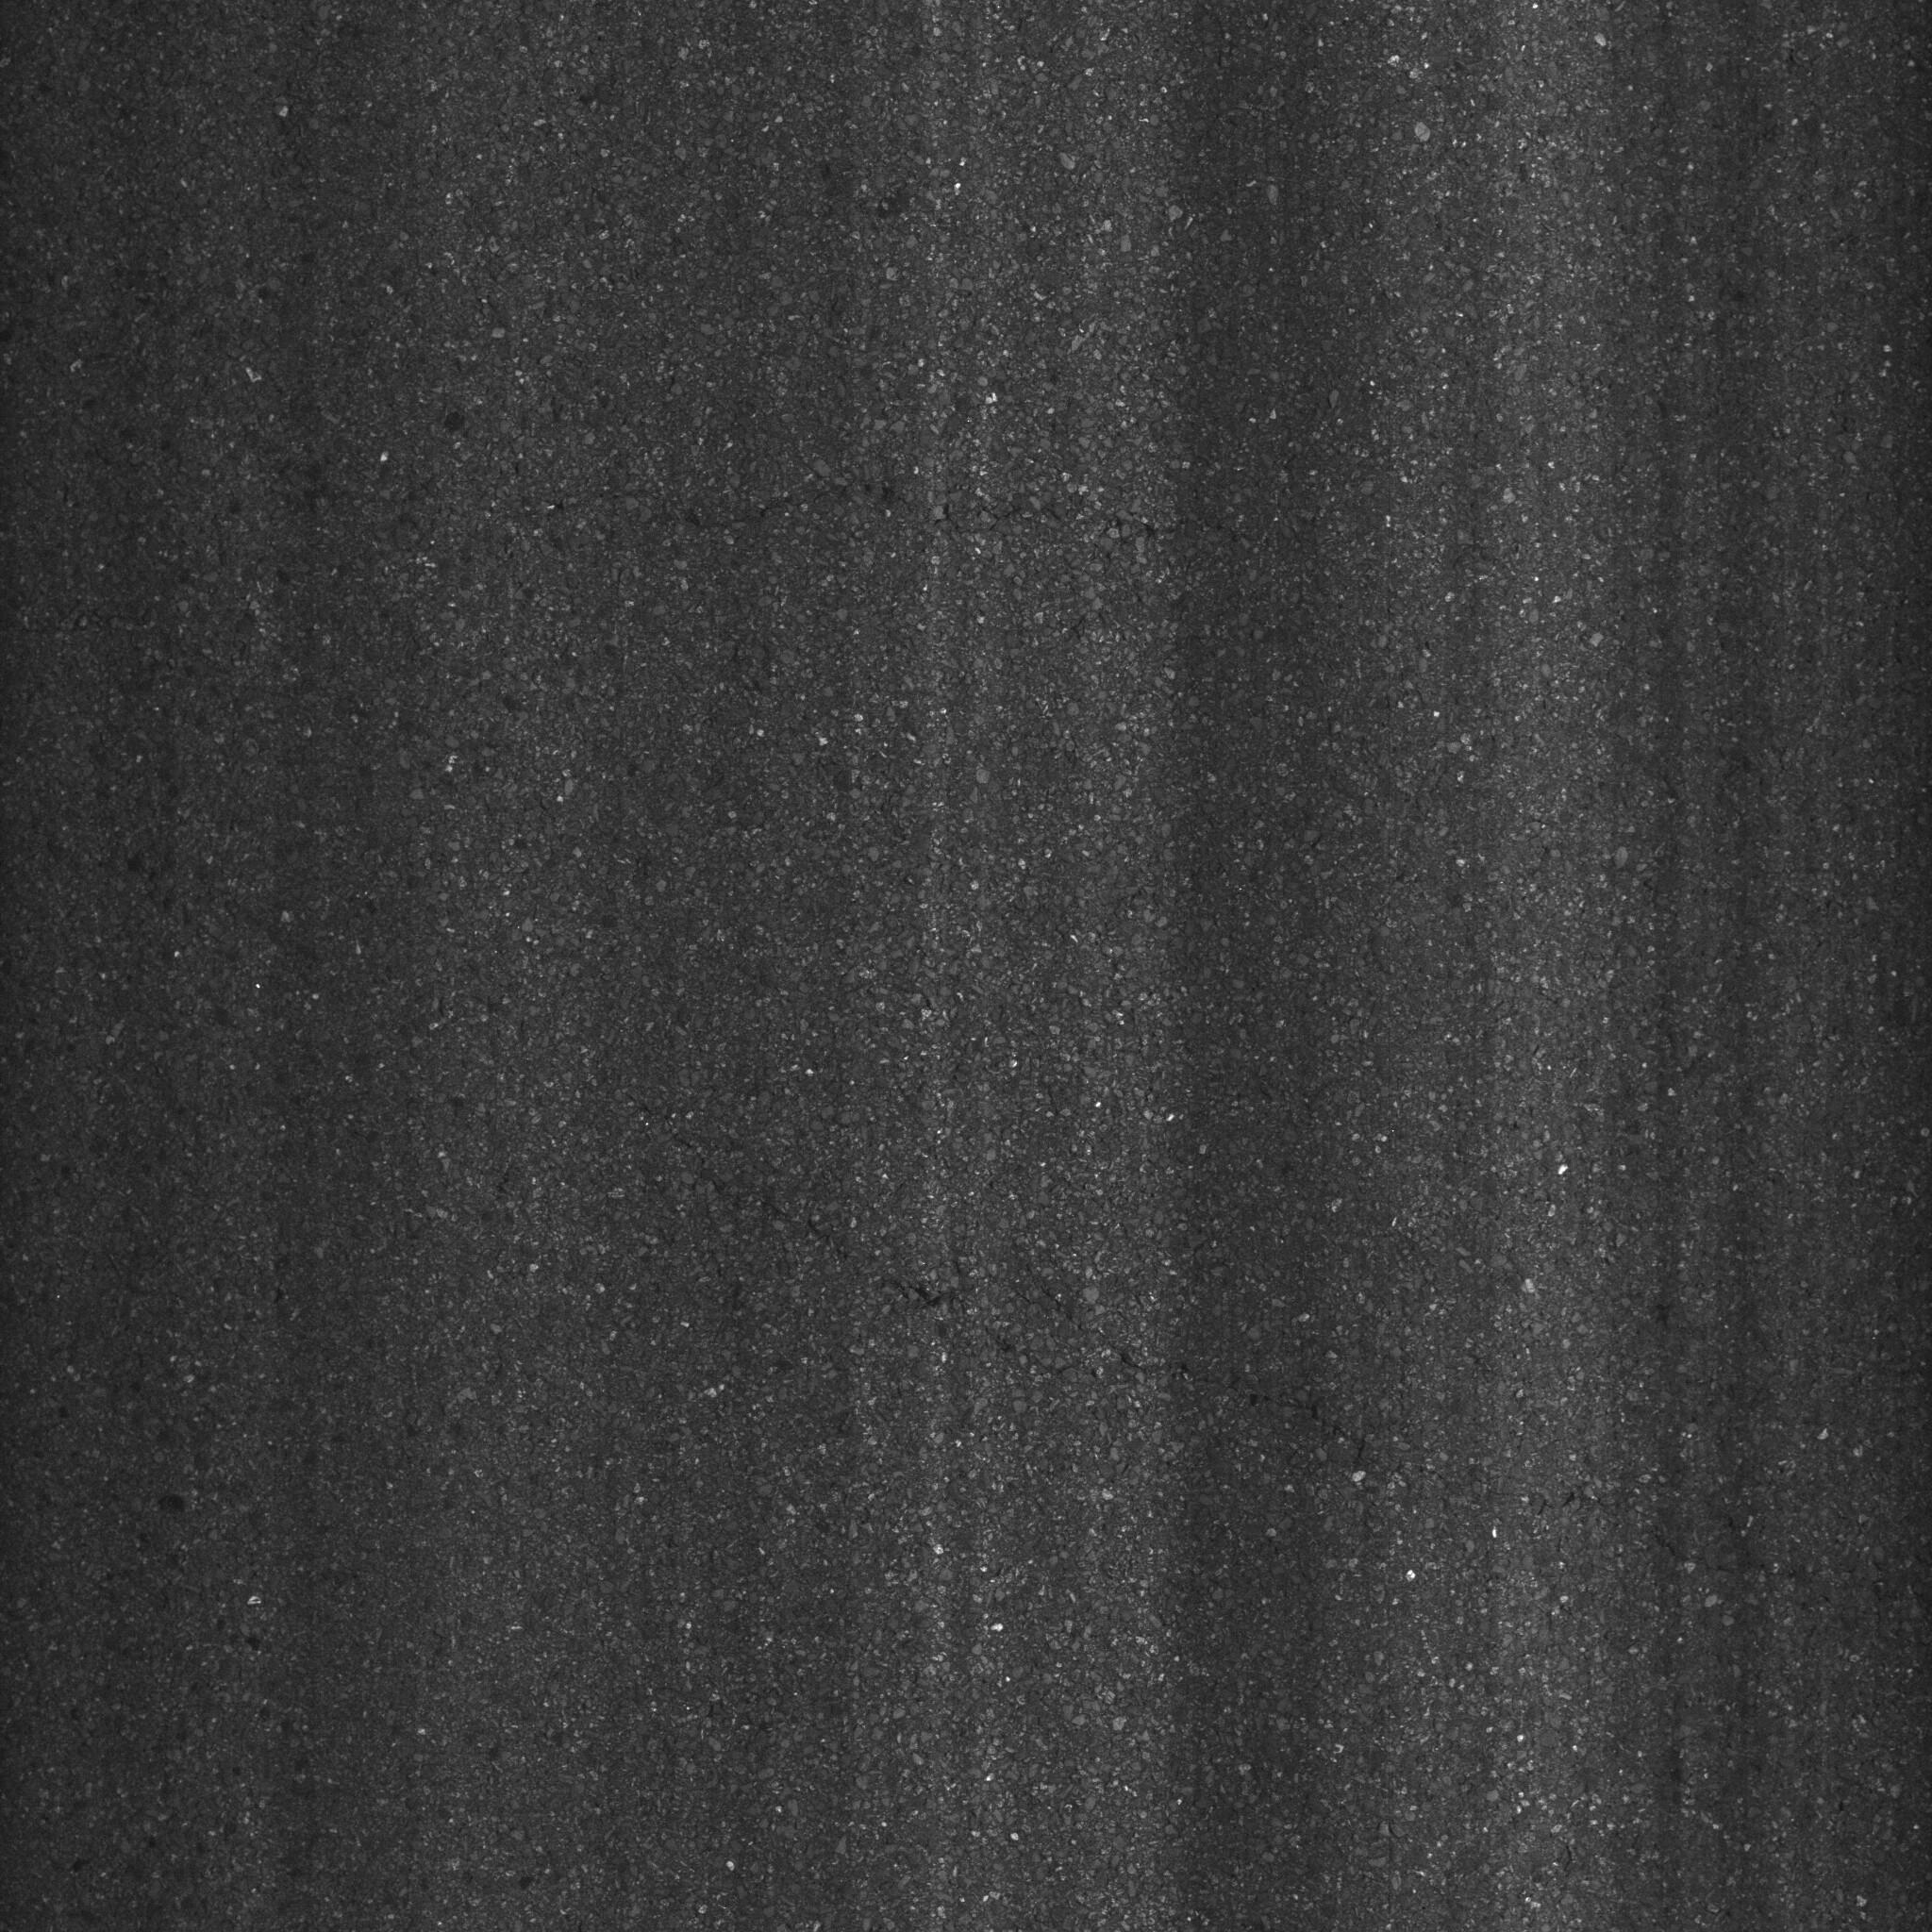transverse: (655, 1145, 1444, 1546)
